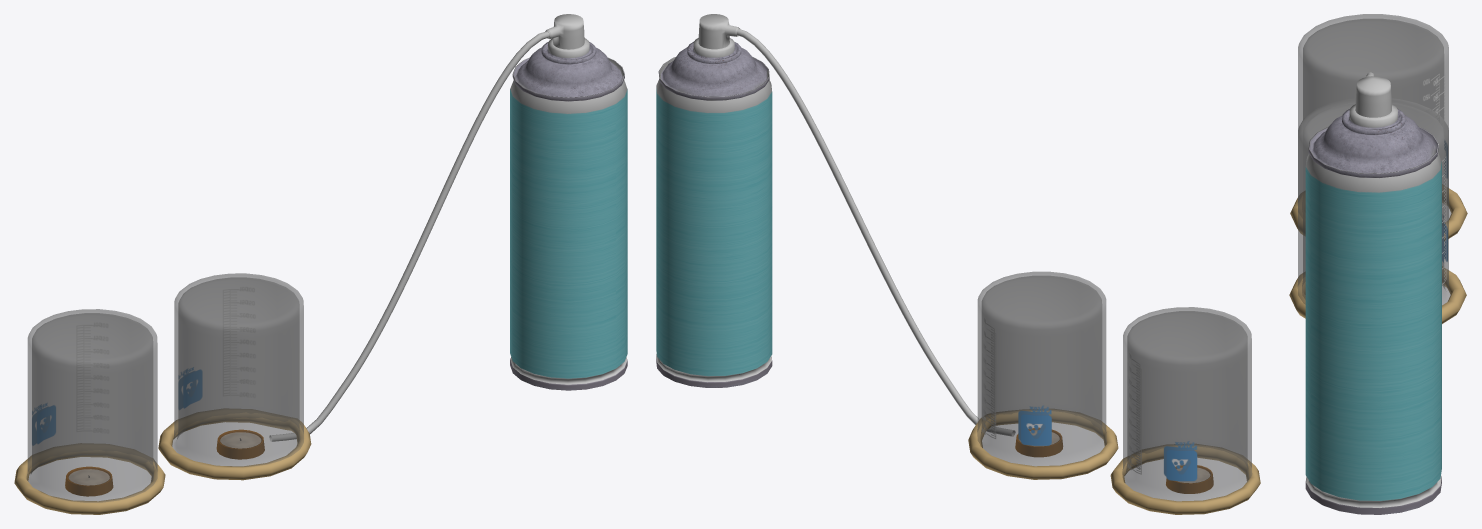
File: Candle_experiment.gltf
3 views of the same model, side by side, from view 1: azimuth 30°, elevation 25°; view 2: azimuth 150°, elevation 25°; view 3: azimuth 270°, elevation 25° (orthographic). The views are drawn at different scales.
Visible parts, largest first — view 1: lowRes1, lab_beaker_a, lab_beaker_a1, pTorus1, pTorus2, sweep1, st_set_Hatthylla_ljus_penna_bok_matta_vaska:polySurface170, polySurface170; view 2: lowRes1, lab_beaker_a1, lab_beaker_a, pTorus1, pTorus2, sweep1, polySurface170, st_set_Hatthylla_ljus_penna_bok_matta_vaska:polySurface170; view 3: lowRes1, lab_beaker_a, lab_beaker_a1, pTorus1, pTorus2.
Boxes of the visible parts, x1,y1,x2,y2 form: lowRes1: (510, 14, 627, 390); lab_beaker_a: (27, 309, 157, 502); lab_beaker_a1: (172, 273, 303, 466); pTorus1: (158, 409, 311, 480); pTorus2: (14, 443, 165, 514); sweep1: (269, 31, 549, 441); st_set_Hatthylla_ljus_penna_bok_matta_vaska:polySurface170: (217, 430, 264, 459); polySurface170: (65, 467, 112, 496); lowRes1: (656, 14, 772, 387); lab_beaker_a1: (977, 271, 1106, 466); lab_beaker_a: (1122, 307, 1251, 501); pTorus1: (968, 409, 1118, 479); pTorus2: (1110, 444, 1260, 514); sweep1: (737, 29, 1015, 436); polySurface170: (1166, 465, 1213, 493); st_set_Hatthylla_ljus_penna_bok_matta_vaska:polySurface170: (1015, 428, 1062, 456); lowRes1: (1305, 75, 1441, 514); lab_beaker_a: (1297, 14, 1451, 220); lab_beaker_a1: (1297, 98, 1450, 304); pTorus1: (1289, 266, 1466, 323); pTorus2: (1290, 184, 1467, 240).
Size of what is drawn, in the model's own units: 0.77 by 0.4338 by 0.1722.
4 materials, 3 textured.
